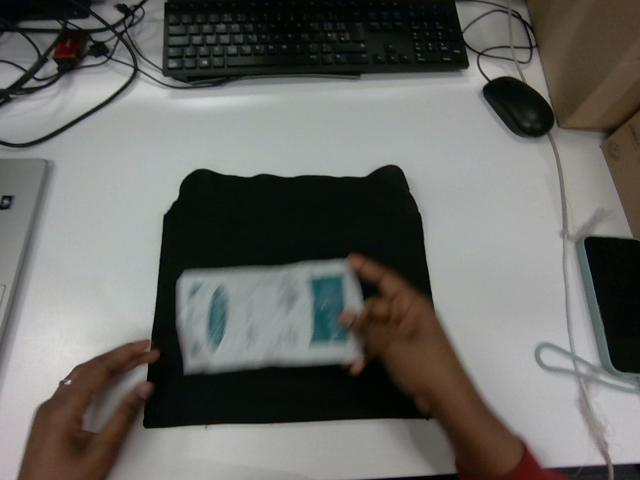gallipot: (176, 260, 362, 375)
